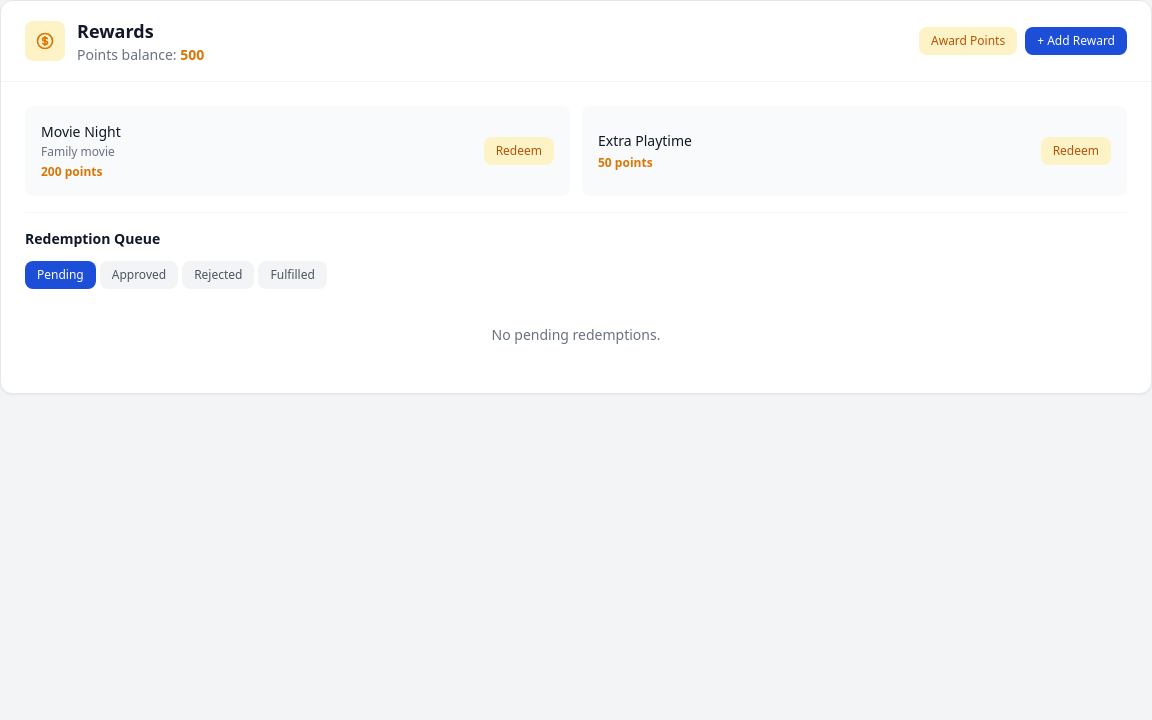
Test case: RewardSection › closes Add Reward form and opens Award Points form when toggling
Click the button "+ Add Reward" at (1076, 41), box [1025,27,1127,55]
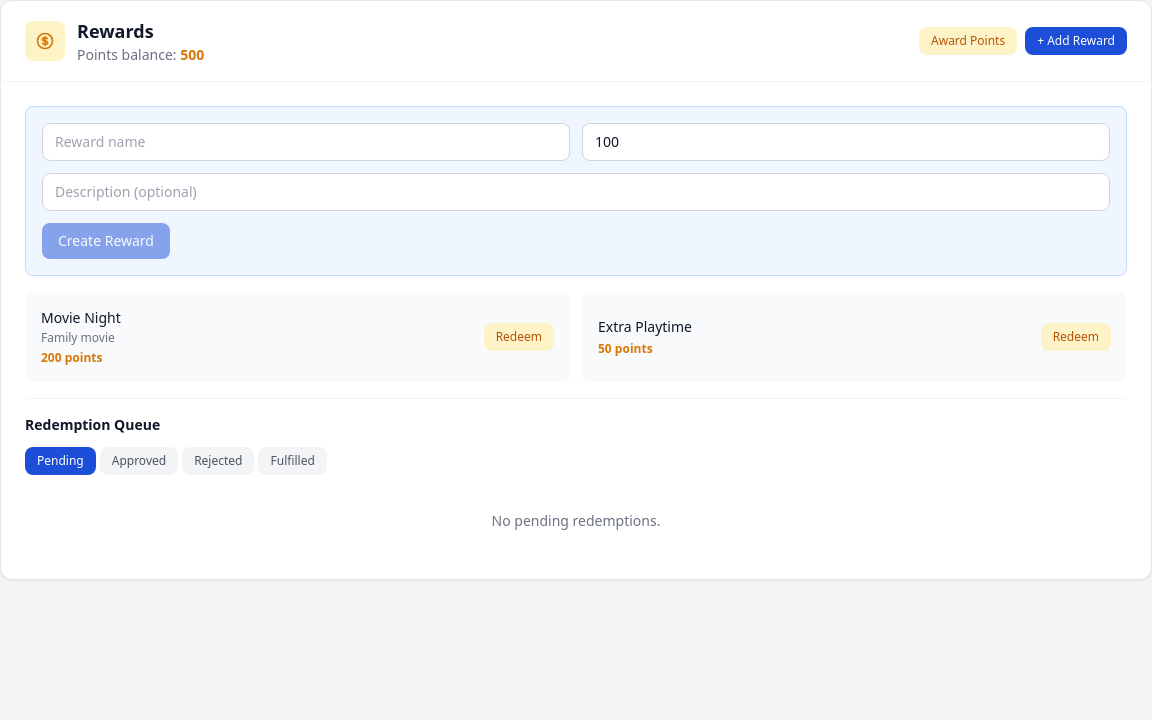
Check: the field with placeholder "Reward name" is shown, box [42,123,570,161]
Click the button "Award Points" at (968, 41), box [919,27,1017,55]
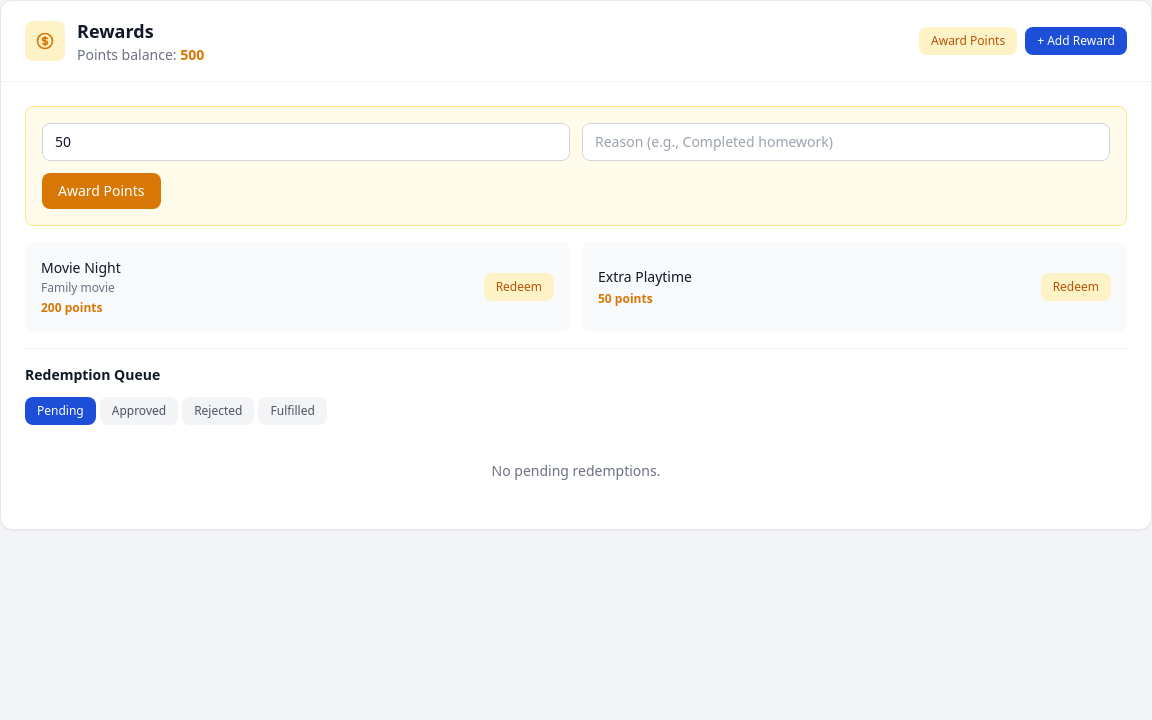
Check: the field with placeholder "Reward name" is not shown
Check: the number field with placeholder "Points" is shown, box [42,123,570,161]
